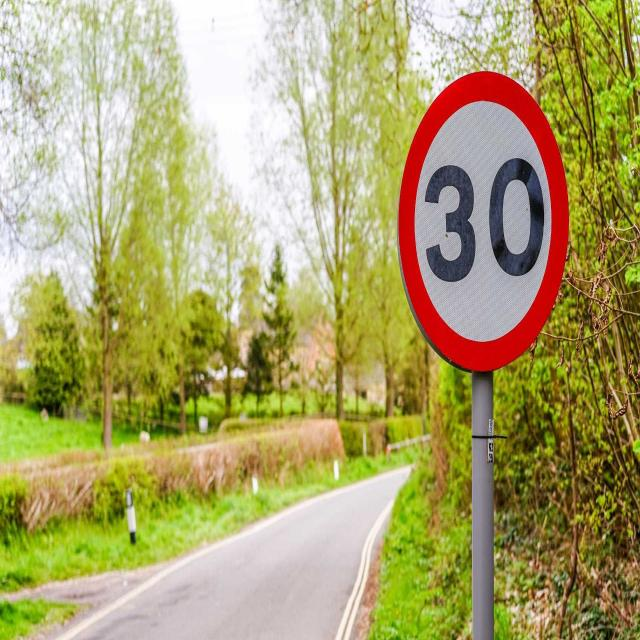Traffic sign: (395, 62, 573, 380)
